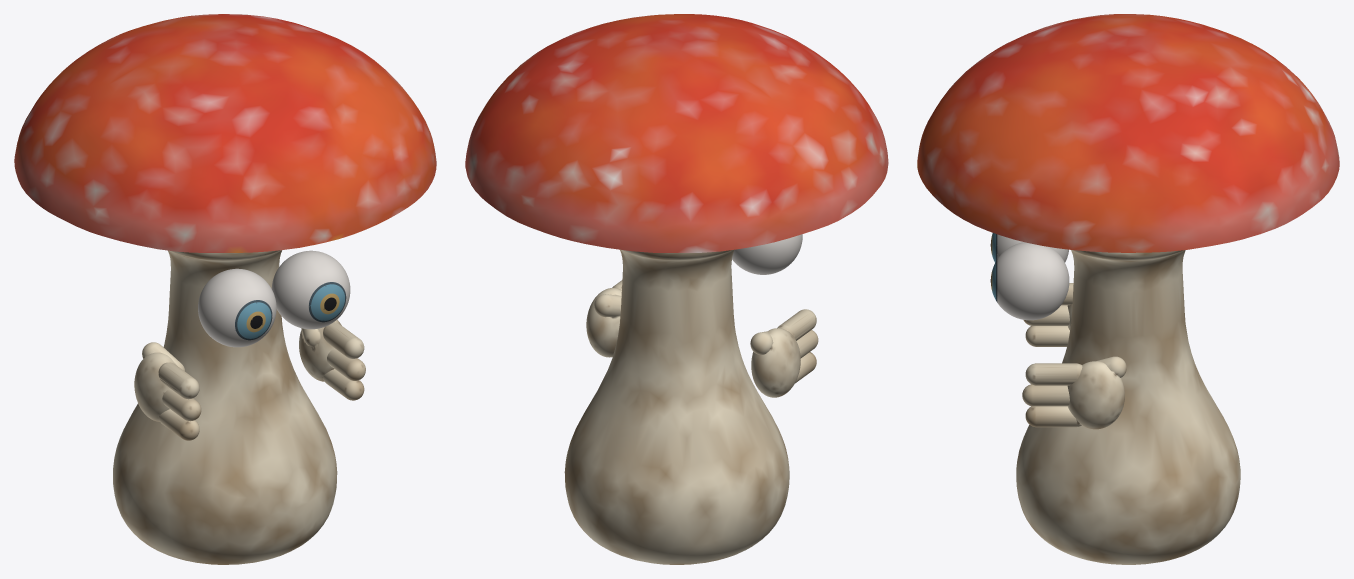
The model's file is amanita-scout_512.glb.
The picture shows the model from 3 angles, left to right: view 1: azimuth 30°, elevation 25°; view 2: azimuth 150°, elevation 25°; view 3: azimuth 270°, elevation 25°; orthographic projection.
Visible parts, largest first — view 1: body, eye, hand; view 2: body, hand, eye; view 3: body, hand, eye.
Part boxes in pixels (bbox=[...]): body: bbox=[14, 14, 436, 564]; eye: bbox=[198, 250, 350, 347]; hand: bbox=[134, 319, 365, 440]; body: bbox=[465, 14, 888, 564]; hand: bbox=[586, 280, 818, 397]; eye: bbox=[732, 234, 802, 274]; body: bbox=[917, 14, 1339, 564]; hand: bbox=[1022, 283, 1126, 429]; eye: bbox=[990, 233, 1069, 320].
Size of the model in its own units: 1.29 by 1.68 by 1.29.
